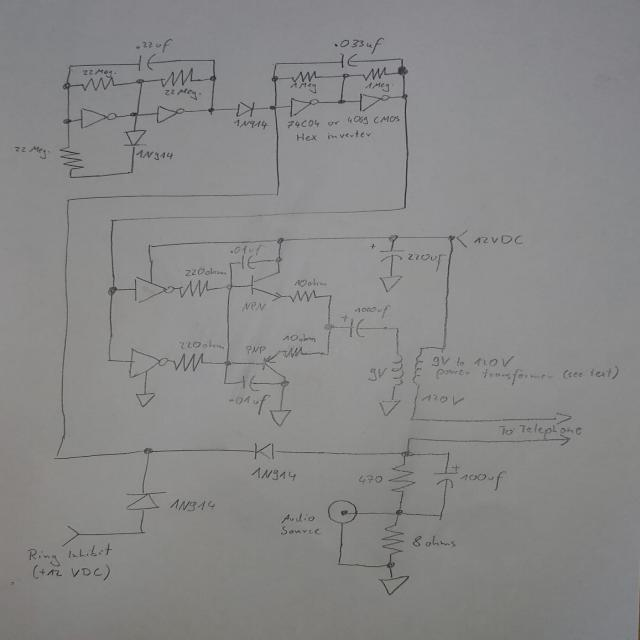capacitor: (432, 464, 461, 488), (340, 314, 366, 338), (370, 243, 404, 261), (136, 52, 156, 72), (238, 374, 258, 392), (236, 253, 256, 270), (338, 52, 358, 68)
diode: (122, 489, 168, 512), (120, 128, 149, 147), (252, 441, 276, 462), (234, 100, 256, 118)
ground: (377, 575, 410, 596), (267, 408, 293, 427), (376, 275, 404, 292), (377, 398, 403, 416), (132, 391, 158, 408)
junction: (104, 284, 119, 296), (322, 322, 337, 332), (132, 76, 146, 86), (382, 560, 396, 570), (399, 449, 413, 458), (396, 65, 408, 75), (392, 508, 405, 516), (386, 234, 398, 242), (142, 446, 154, 454), (136, 528, 147, 536), (61, 82, 72, 90), (205, 106, 215, 114), (275, 236, 285, 244), (207, 74, 217, 82), (399, 92, 409, 100), (434, 512, 444, 520), (404, 434, 414, 442), (444, 234, 454, 242), (267, 104, 278, 111), (128, 111, 140, 117), (222, 359, 232, 366), (269, 75, 279, 82), (50, 454, 60, 461), (335, 98, 345, 105), (280, 379, 290, 386), (340, 72, 351, 78), (225, 283, 234, 290), (273, 255, 282, 262), (406, 416, 416, 422), (224, 261, 234, 267), (62, 118, 72, 124), (66, 173, 74, 180), (334, 560, 343, 566), (126, 169, 135, 175), (64, 196, 72, 202), (443, 450, 451, 456), (397, 56, 405, 62), (145, 243, 153, 249), (393, 326, 401, 332), (417, 345, 425, 351), (321, 351, 330, 356), (221, 380, 228, 386), (326, 293, 334, 298), (105, 358, 114, 362), (439, 346, 446, 351), (272, 61, 278, 66), (401, 205, 407, 210), (209, 58, 216, 62), (66, 64, 73, 68), (108, 218, 115, 222), (273, 192, 280, 196)
resistor: (386, 463, 416, 495), (380, 522, 405, 556), (160, 68, 196, 88), (177, 278, 211, 298), (58, 145, 84, 171), (172, 352, 205, 372), (80, 76, 118, 93), (361, 66, 388, 81), (290, 70, 318, 84), (288, 289, 318, 302), (281, 346, 304, 358)
terminal: (325, 499, 359, 524), (58, 525, 80, 547), (455, 229, 469, 248), (551, 412, 573, 424), (557, 433, 571, 446)
text: (434, 365, 620, 386), (26, 542, 113, 566), (27, 562, 112, 582), (285, 115, 400, 129), (497, 422, 583, 439), (293, 128, 373, 144), (458, 469, 508, 492), (429, 354, 517, 367), (227, 393, 270, 416), (333, 36, 384, 54), (248, 465, 296, 482), (406, 252, 446, 271), (412, 533, 458, 549), (168, 497, 215, 512), (351, 304, 392, 320), (132, 38, 172, 53), (418, 393, 464, 406), (12, 144, 49, 160), (160, 86, 202, 100), (471, 234, 524, 245), (134, 148, 177, 161), (176, 340, 227, 350), (279, 525, 322, 536), (232, 118, 269, 130), (280, 511, 316, 523), (183, 266, 226, 276), (80, 67, 117, 78), (228, 244, 263, 255), (362, 80, 394, 92), (364, 366, 388, 382), (287, 82, 318, 94), (240, 300, 268, 313), (292, 277, 327, 287), (281, 333, 316, 343), (356, 474, 383, 484), (243, 344, 266, 354)
transformer: (389, 352, 425, 386)
transistor: (248, 273, 284, 301), (260, 348, 287, 378)
